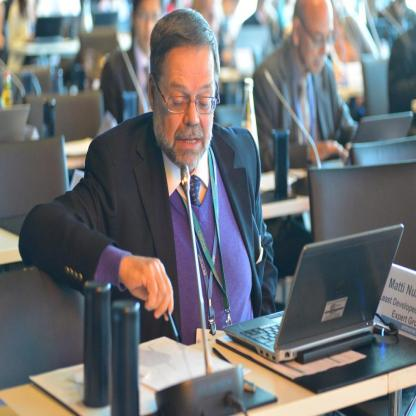board: (224, 224, 406, 363), (0, 134, 70, 220)
